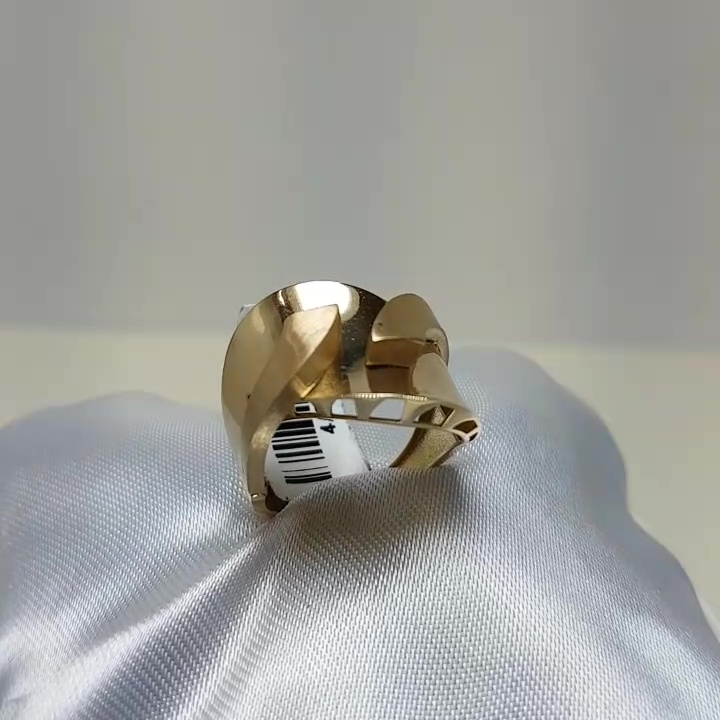Ring 4: (209, 268, 482, 545)
